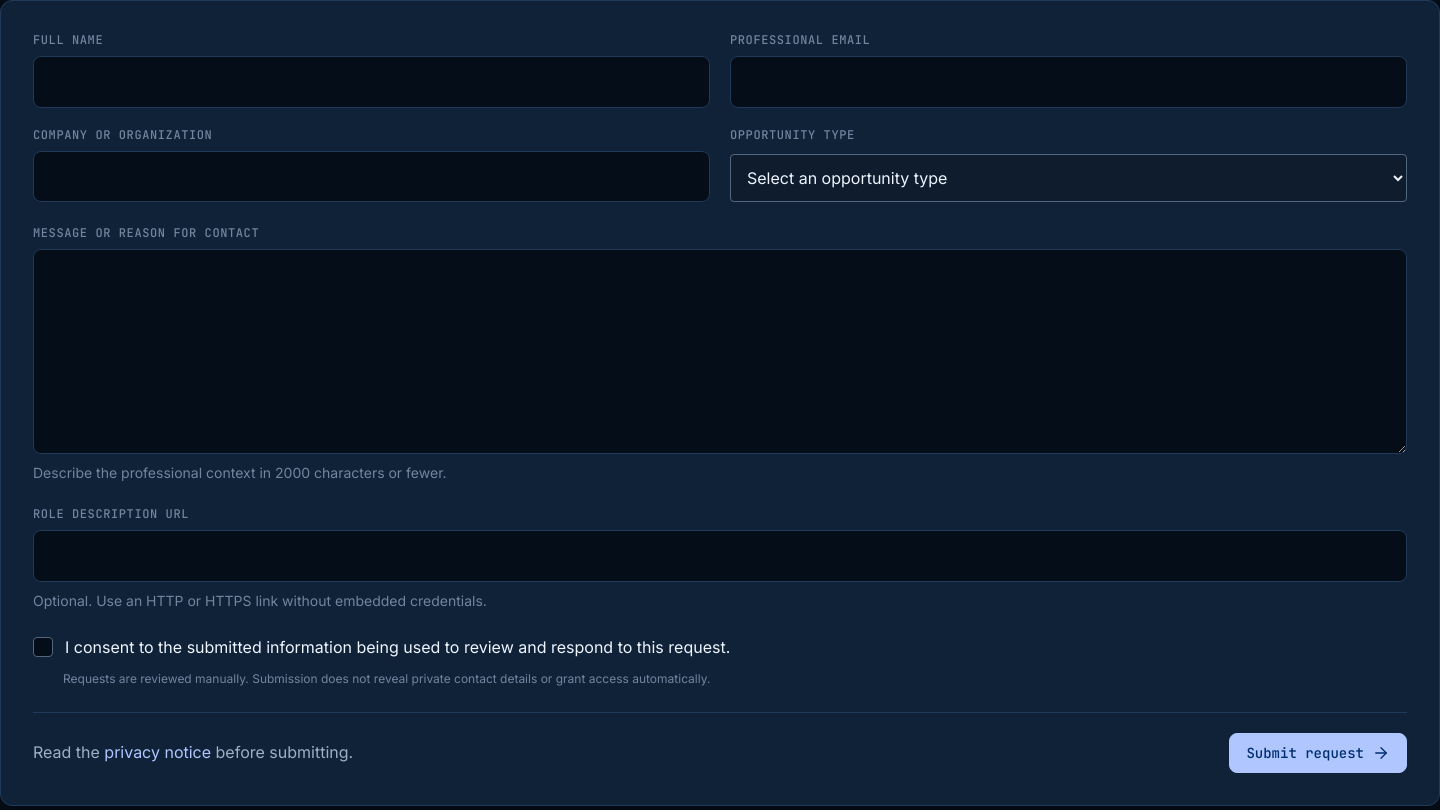
Test: contact request form states › renders server field validation errors
In the field labelled "Full name": {"x": 372, "y": 82} [33,56,710,108], type "Jane Recruiter"
In the field labelled "Professional email": {"x": 1068, "y": 82} [730,56,1407,108], type "jane@example.com"
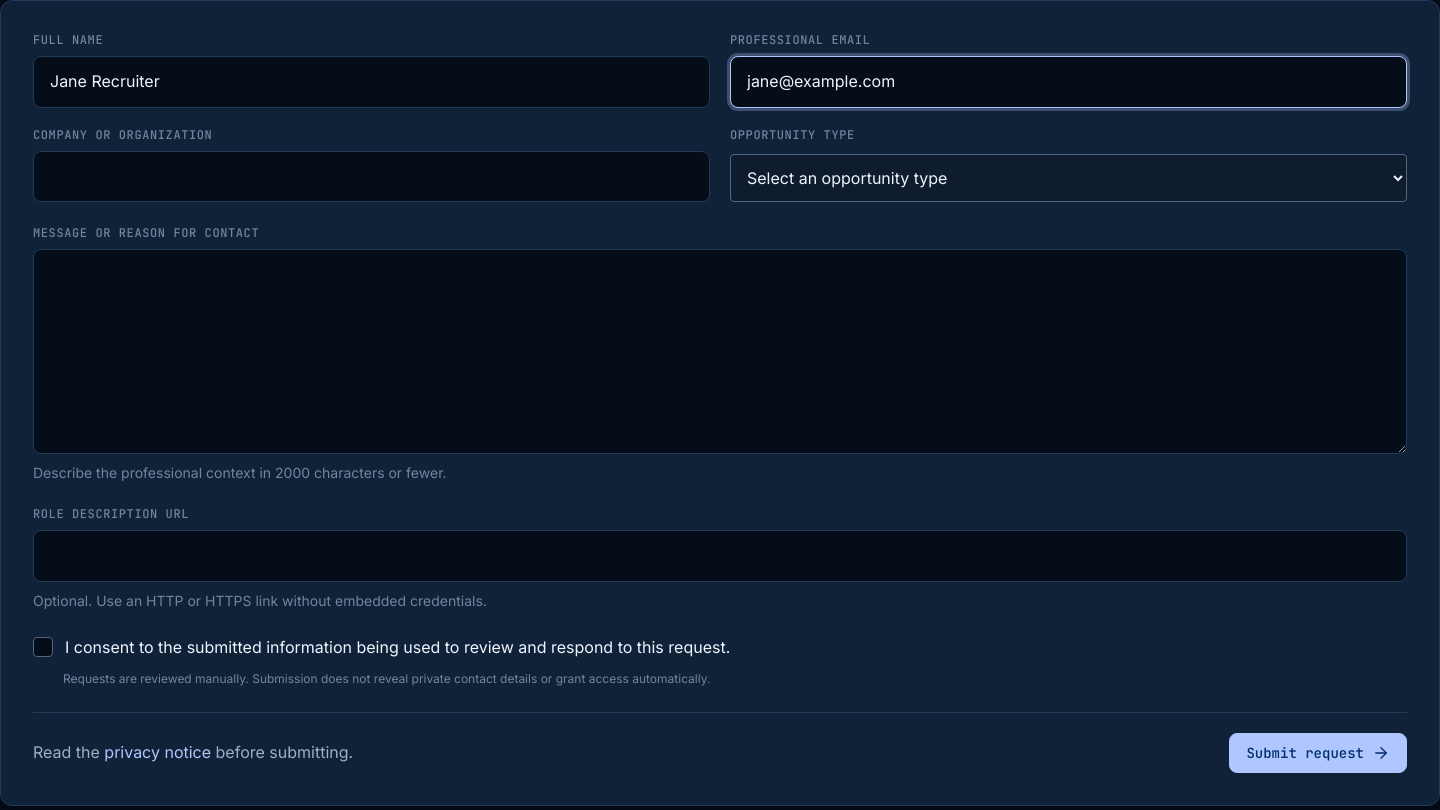
In the field labelled "Company or organization": {"x": 372, "y": 176} [33,151,710,202], type "Example Org"
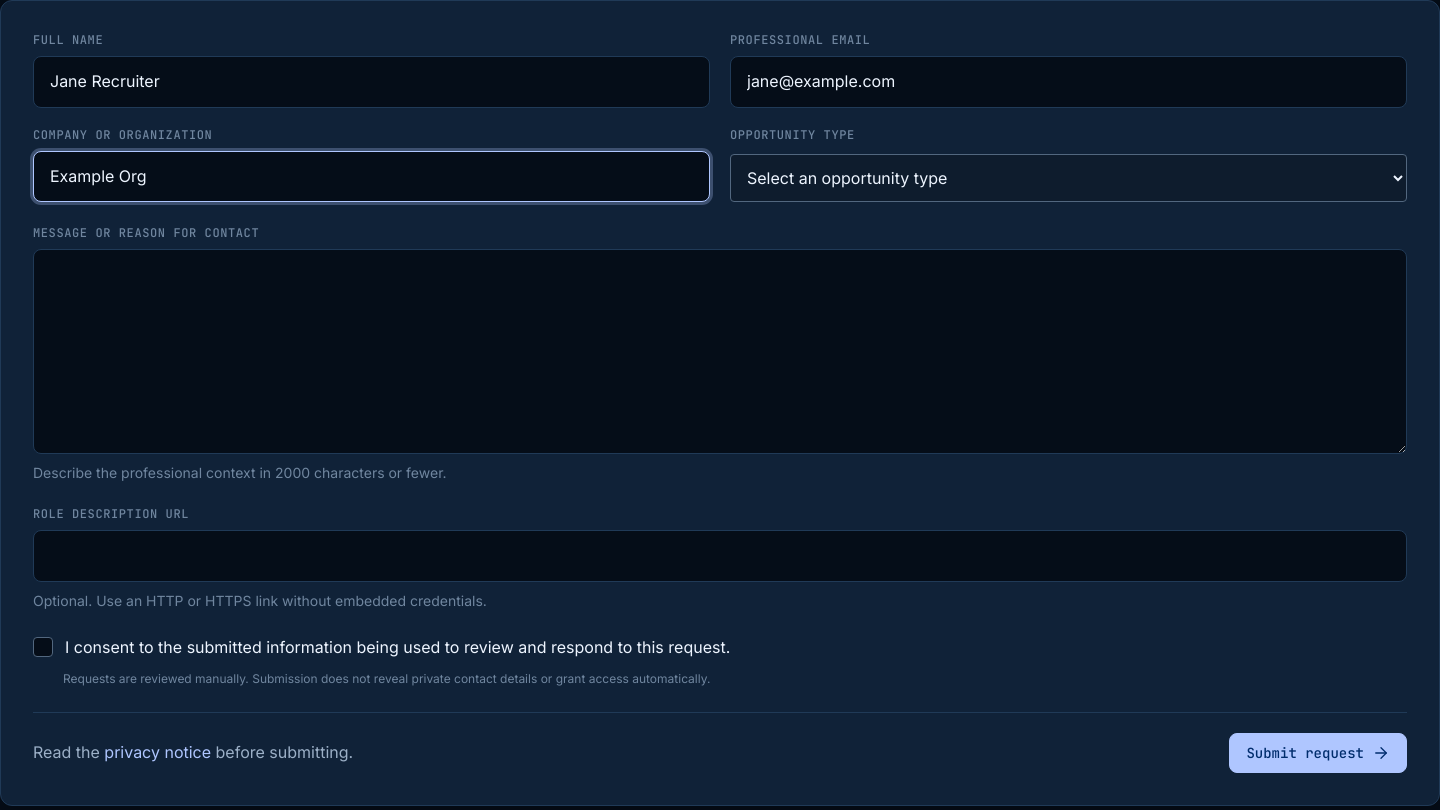
Select "Employment opportunity" in the dropdown labelled "Opportunity type": {"x": 1068, "y": 178} [730,154,1407,202]
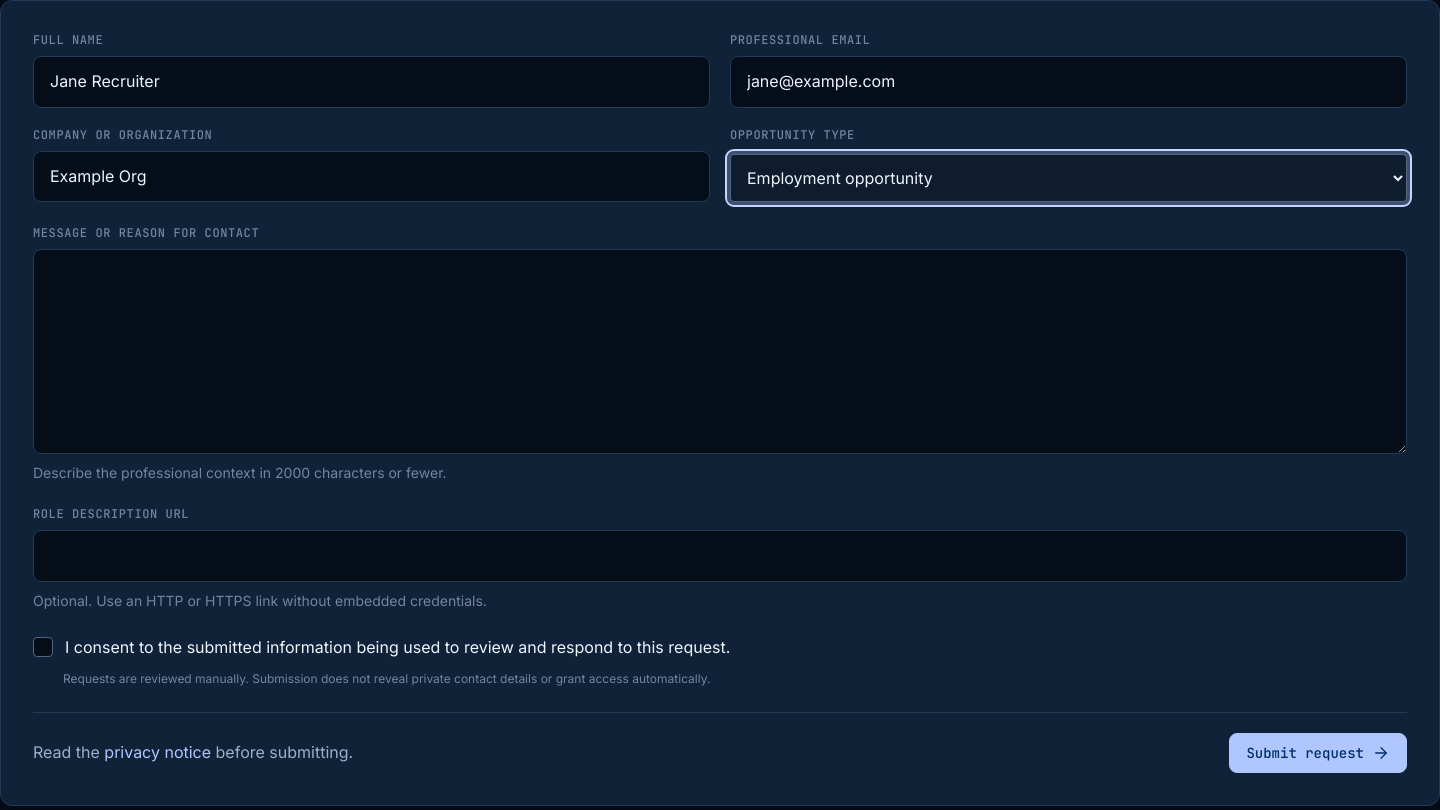
In the text box labelled "Message or reason for contact": {"x": 720, "y": 352} [33,249,1407,454], type "I would like to discuss a relevant professional opportunity."
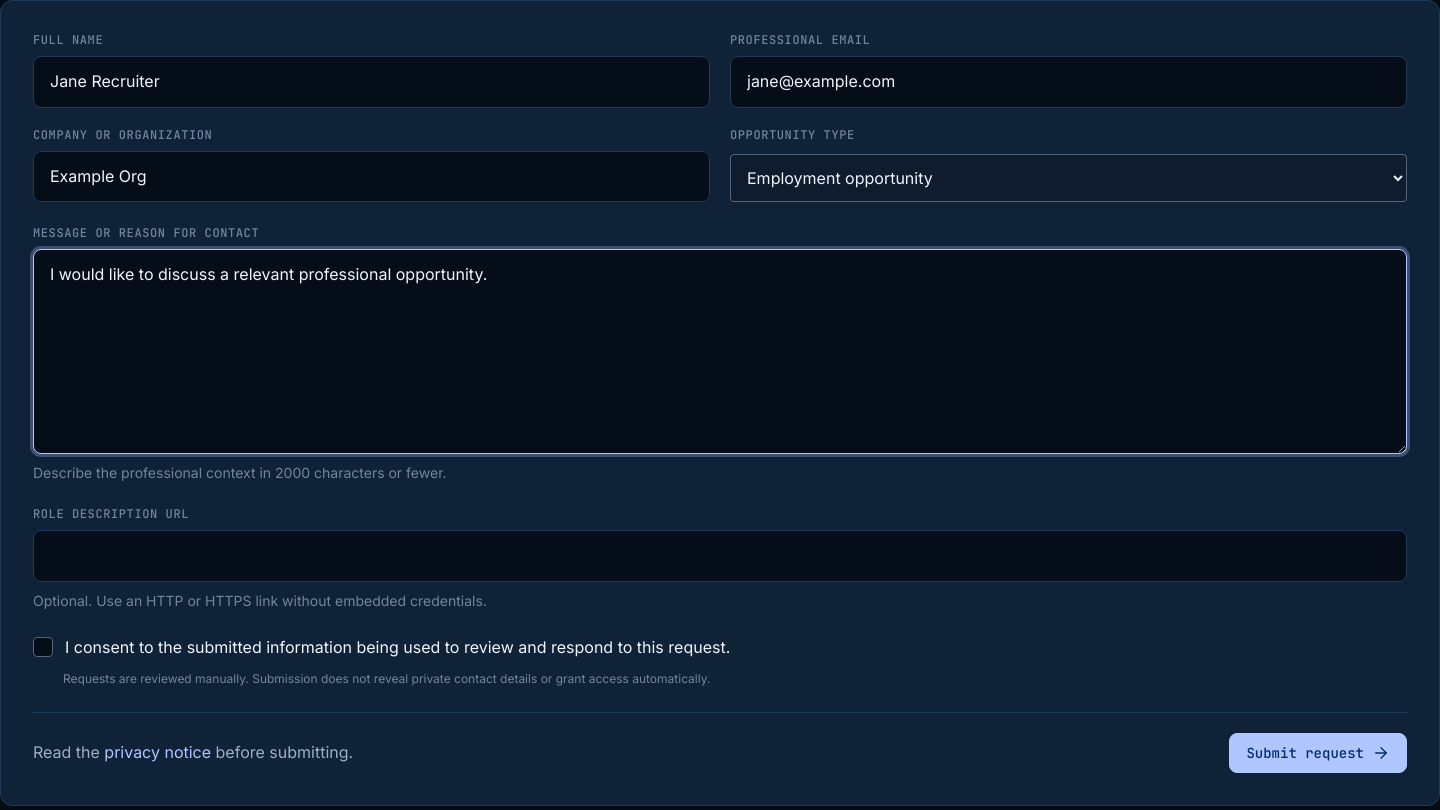
Click the checkbox: {"x": 382, "y": 647} [33,637,730,657]
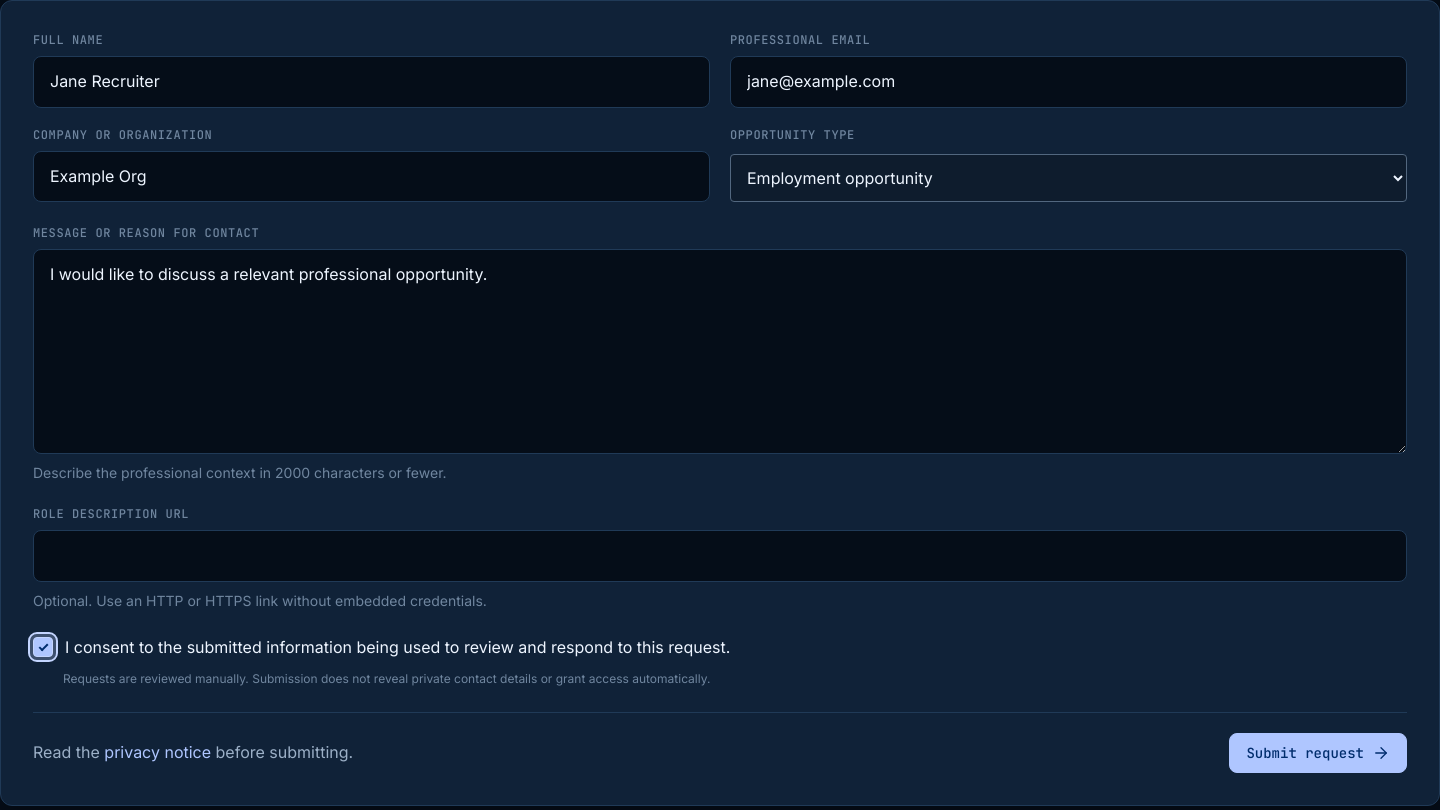
Click the button "Submit request": {"x": 1318, "y": 753} [1229,733,1407,773]
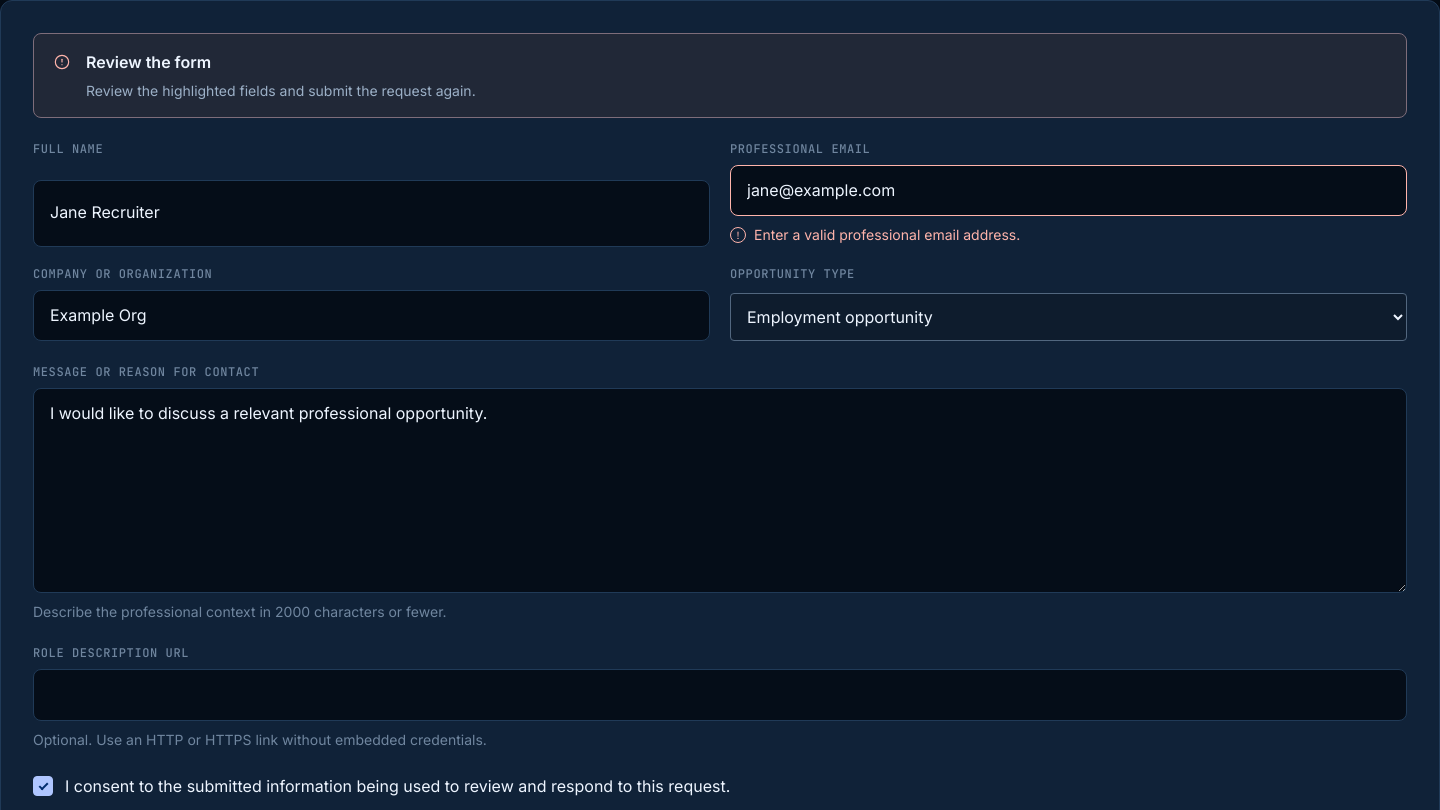
Result: the text "Review the form" is shown at [86,52,211,72]
Result: the text "Enter a valid professional email address." is shown at [754,226,1020,243]
